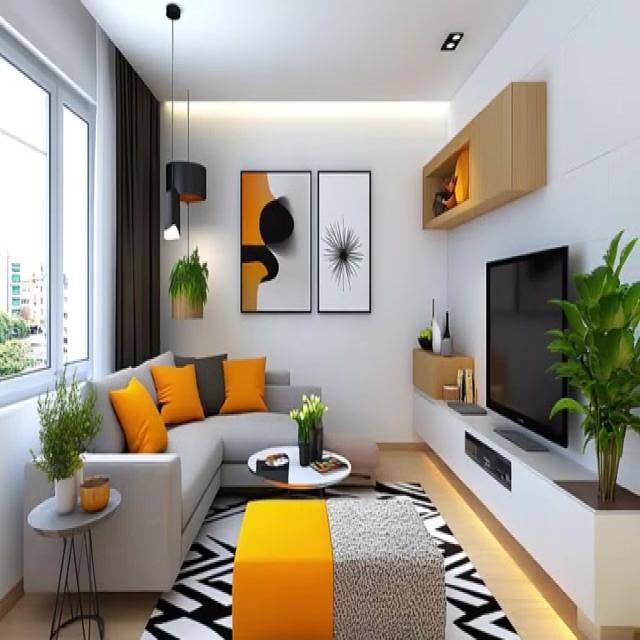obstacle: (26, 353, 328, 588), (421, 80, 547, 229), (26, 486, 121, 638), (247, 443, 351, 496)
